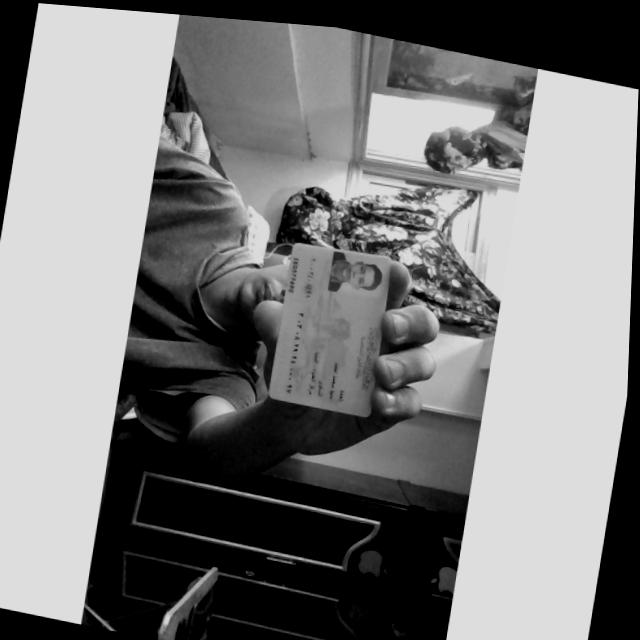id_card: (268, 242, 390, 415)
